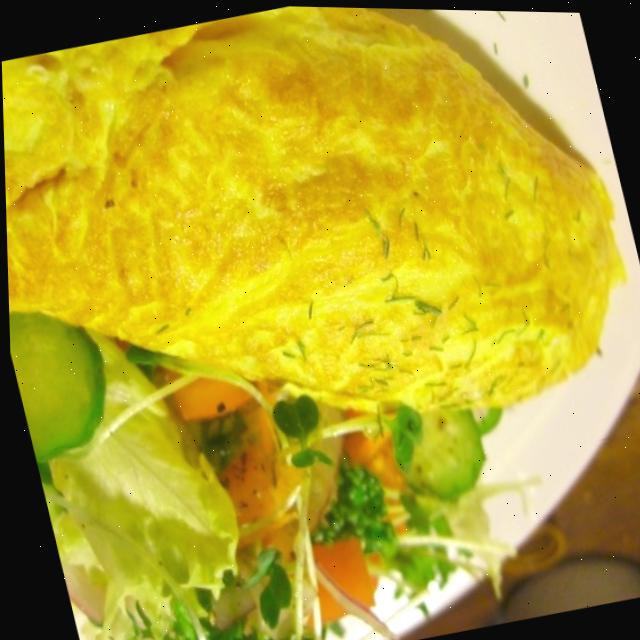鸡蛋料理: (0, 0, 640, 548)
